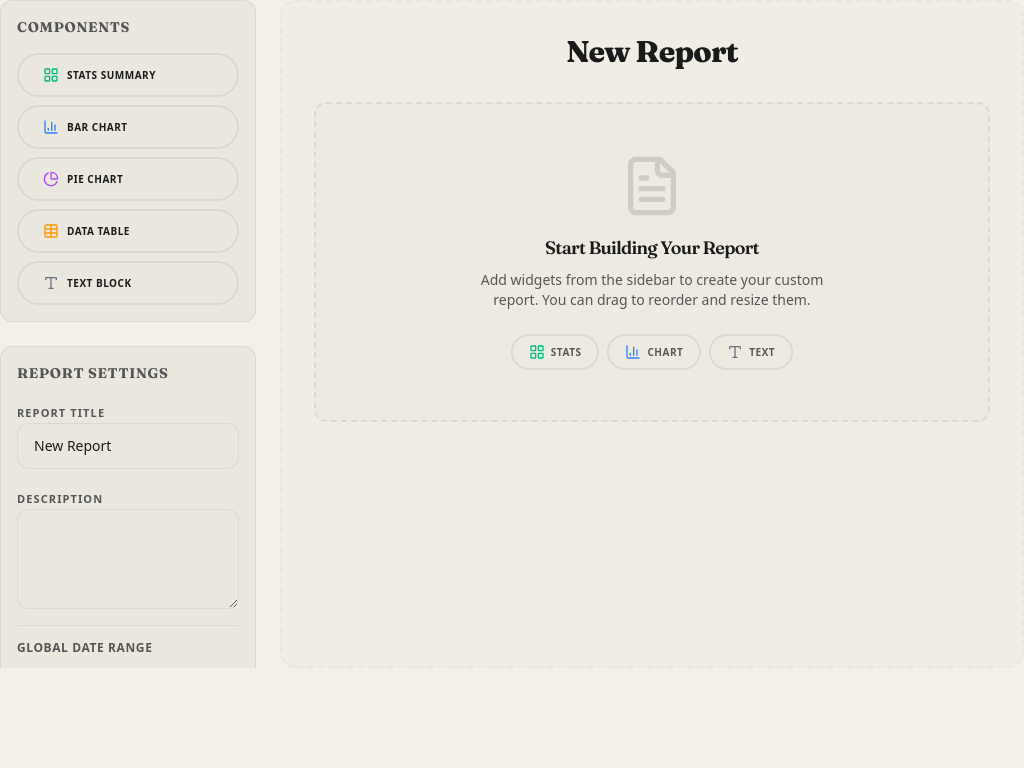
Scenario: ReportBuilder › allows adding widgets
Click the button "Bar Chart". click: click(128, 127)
box: [17,105,239,149]
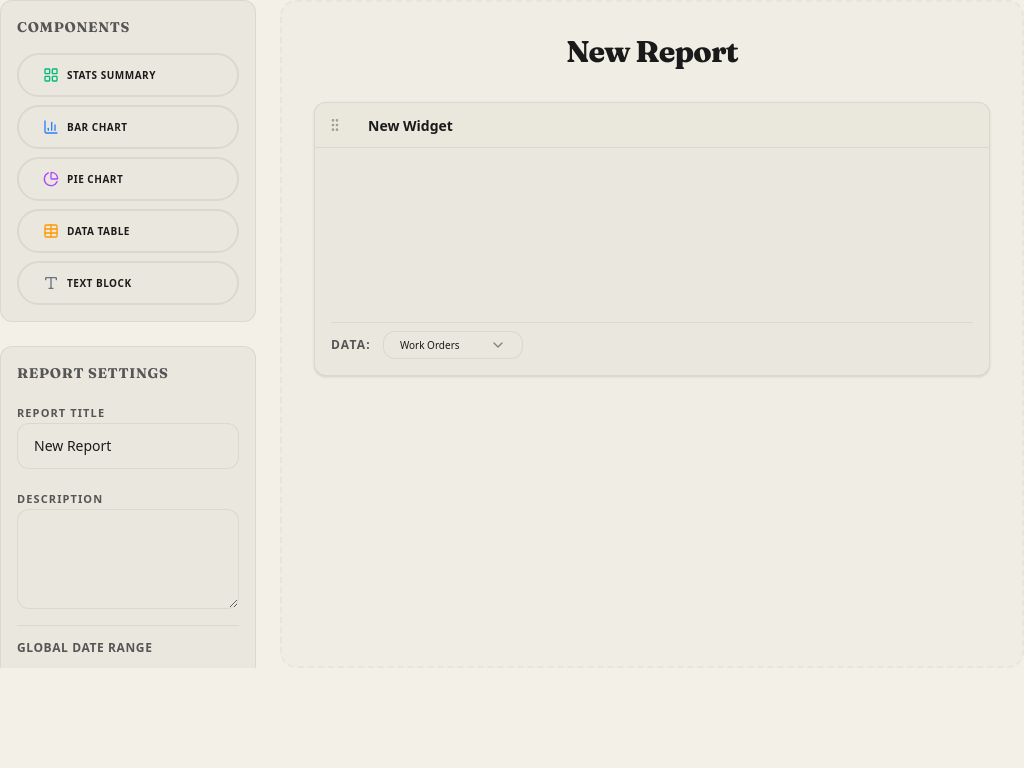
Expected: the field showing "New Widget" is shown, [351,111,511,139]
Expected: the text "Data:" is shown, [331,337,371,353]
